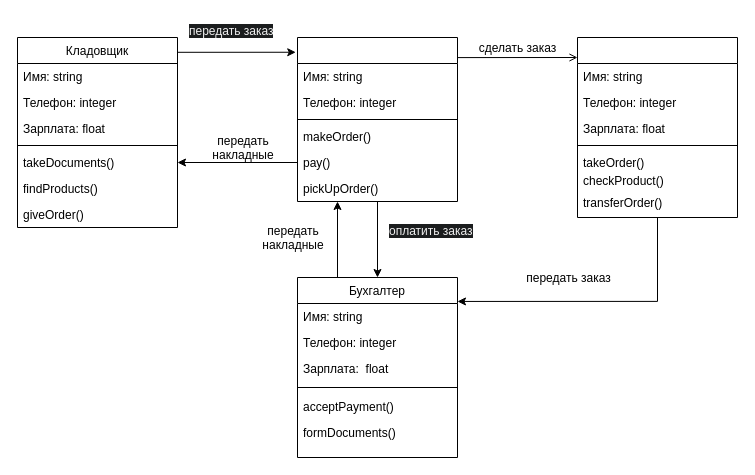
This 755x475 diagram has some shape labels left out. Here are the shapes that lost their labels. From the top down, the box of each, then its label:
(296, 36, 458, 202): Клиент
(576, 36, 738, 218): Менеджер
